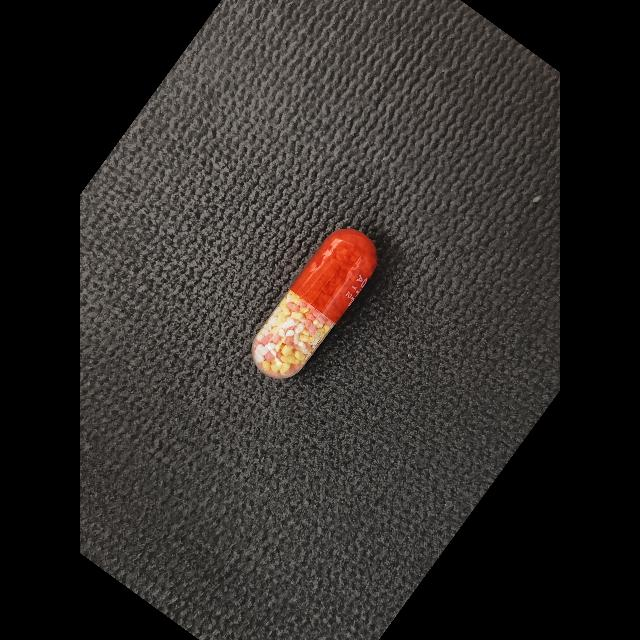Intact Capsule: (252, 228, 377, 378)
